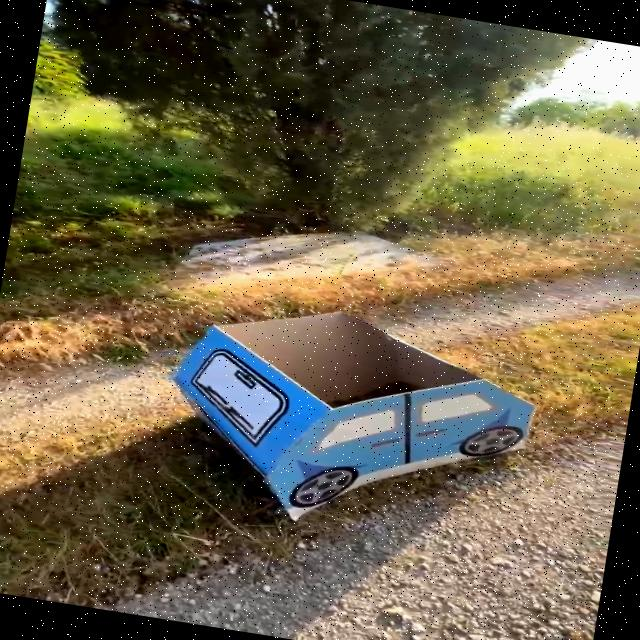blue_car: (117, 271, 578, 577)
